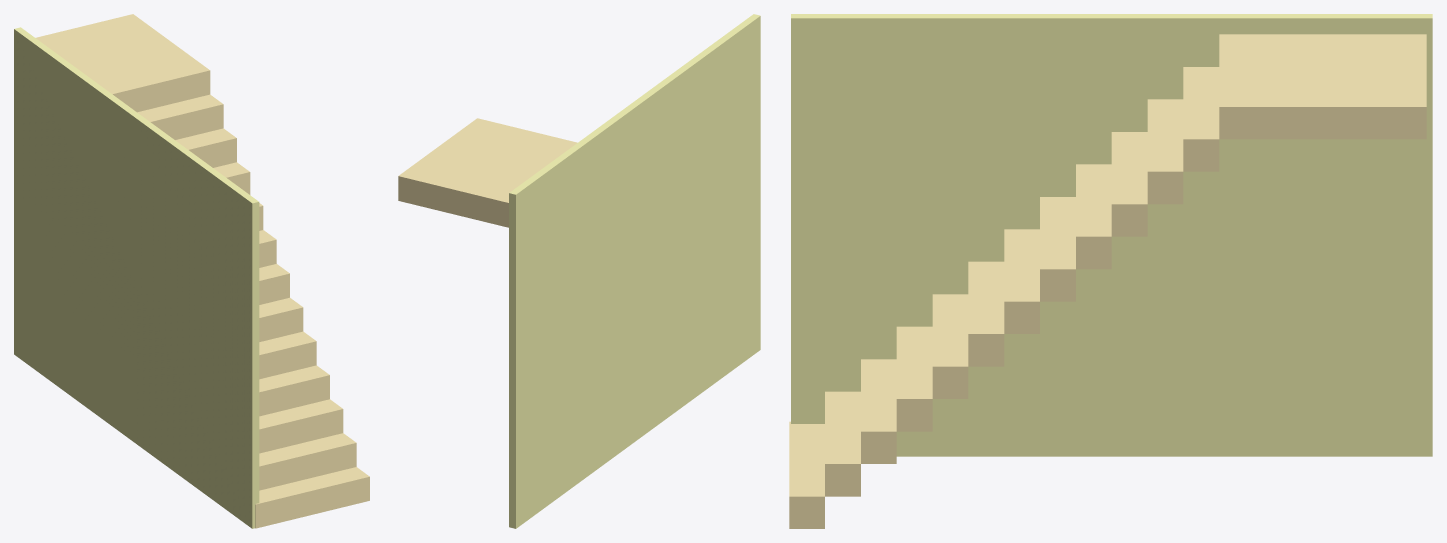
The model's file is Stairs.fbx.
The picture shows the model from 3 angles, left to right: view 1: azimuth 30°, elevation 25°; view 2: azimuth 150°, elevation 25°; view 3: azimuth 270°, elevation 25°; orthographic projection. The views are drawn at different scales.
Visible parts, largest first — view 1: Cube; view 2: Cube; view 3: Cube.
Boxes of the visible parts, left/top/right/bottom form: Cube: left=14, top=14, right=369, bottom=528; Cube: left=398, top=14, right=760, bottom=528; Cube: left=789, top=14, right=1432, bottom=528.
Size of the model in its own units: 114 by 403 by 303.
